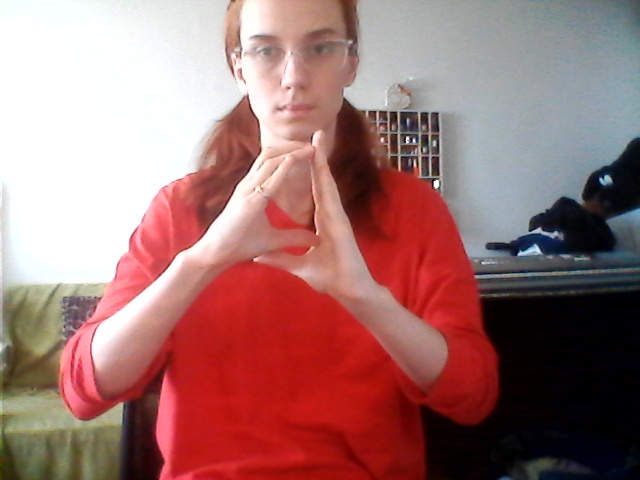d: (226, 129, 362, 294)
